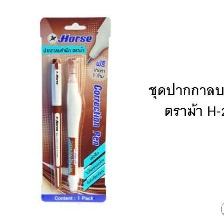book: (38, 14, 112, 204)
correction_fluid: (63, 55, 84, 193)
